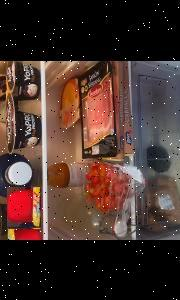Tomate: (98, 164, 106, 178), (102, 197, 110, 209), (93, 184, 101, 196), (91, 166, 99, 176), (92, 176, 100, 185), (101, 188, 108, 198)
Yogur: (7, 187, 41, 228), (0, 76, 18, 121)
